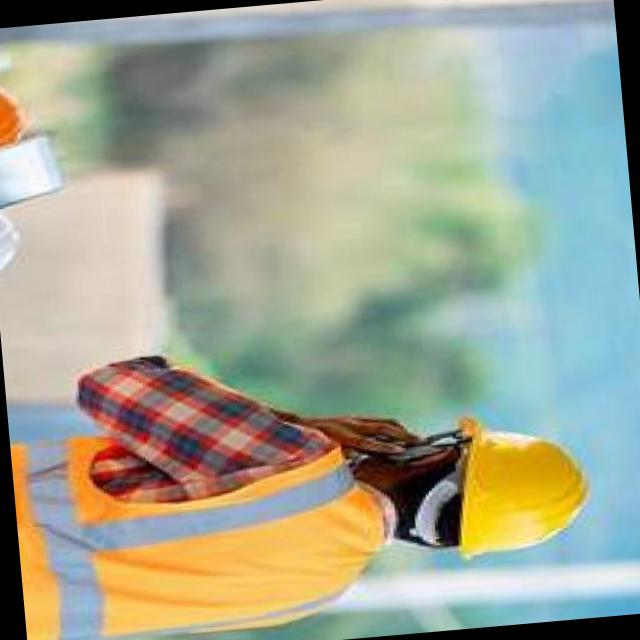not-gloved: (310, 402, 410, 459)
